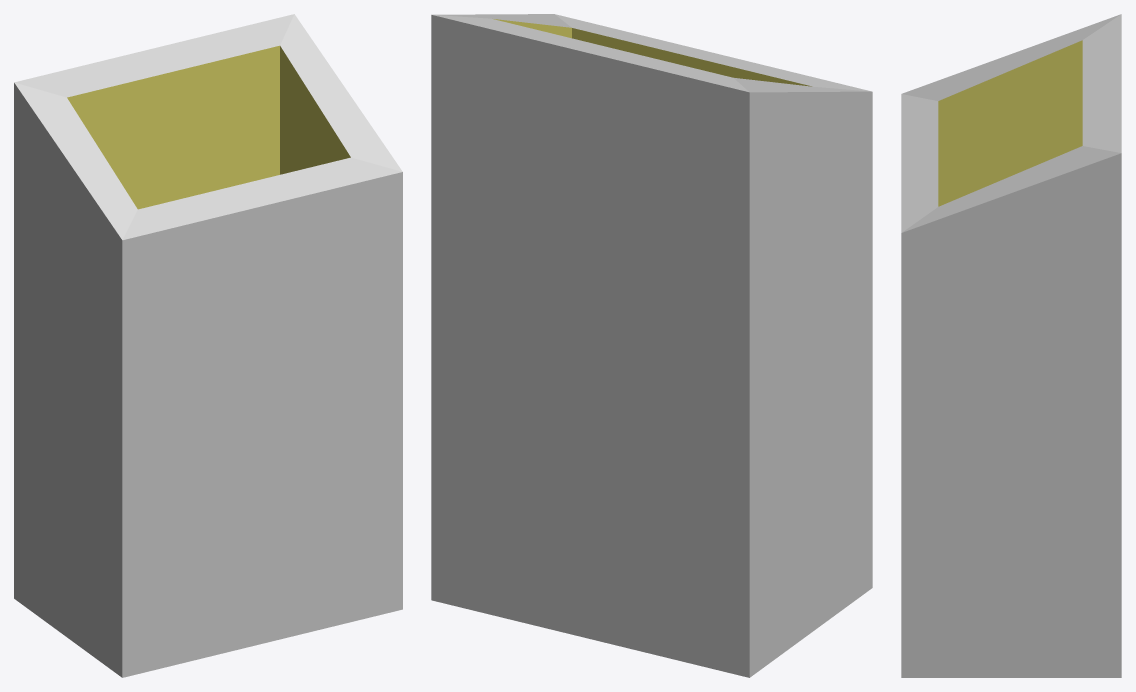
The model's file is SM_Trashcan.fbx.
3 views of the same model, side by side, from view 1: azimuth 30°, elevation 25°; view 2: azimuth 150°, elevation 25°; view 3: azimuth 270°, elevation 25° (orthographic). The views are drawn at different scales.
Visible parts, largest first — view 1: Cube.014; view 2: Cube.014; view 3: Cube.014.
Boxes of the visible parts, x1,y1,x2,y2 form: Cube.014: [14, 14, 402, 677]; Cube.014: [431, 14, 872, 677]; Cube.014: [901, 14, 1121, 677].
Size of the model in its own units: 227 by 400 by 152.
